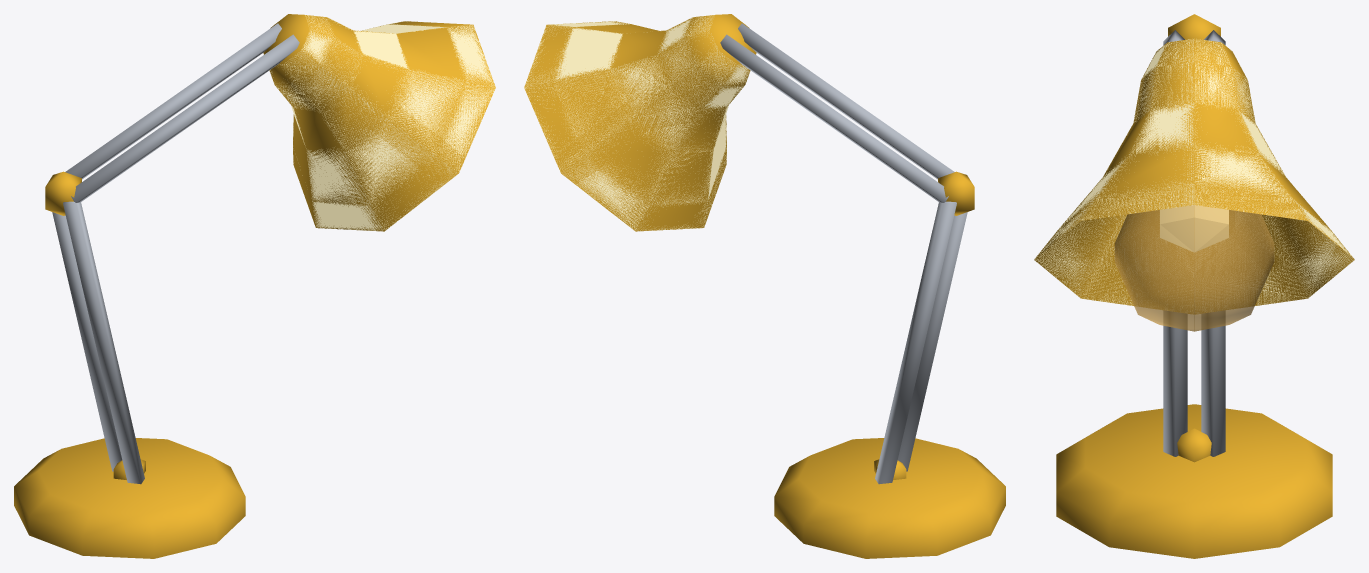
File: home-deskLamp.glb
The picture shows the model from 3 angles, left to right: view 1: azimuth 30°, elevation 25°; view 2: azimuth 150°, elevation 25°; view 3: azimuth 270°, elevation 25°; orthographic projection. The views are drawn at different scales.
Parts seen in each view (by area): view 1: home.deskLamp; view 2: home.deskLamp; view 3: home.deskLamp.
Boxes of the visible parts, left/top/right/bottom form: home.deskLamp: left=14, top=14, right=495, bottom=558; home.deskLamp: left=524, top=14, right=1005, bottom=558; home.deskLamp: left=1034, top=14, right=1354, bottom=558.
Size of the model in its own units: 1.43 by 1.4 by 0.7182.
Materials: 4 (2 with a texture image).
